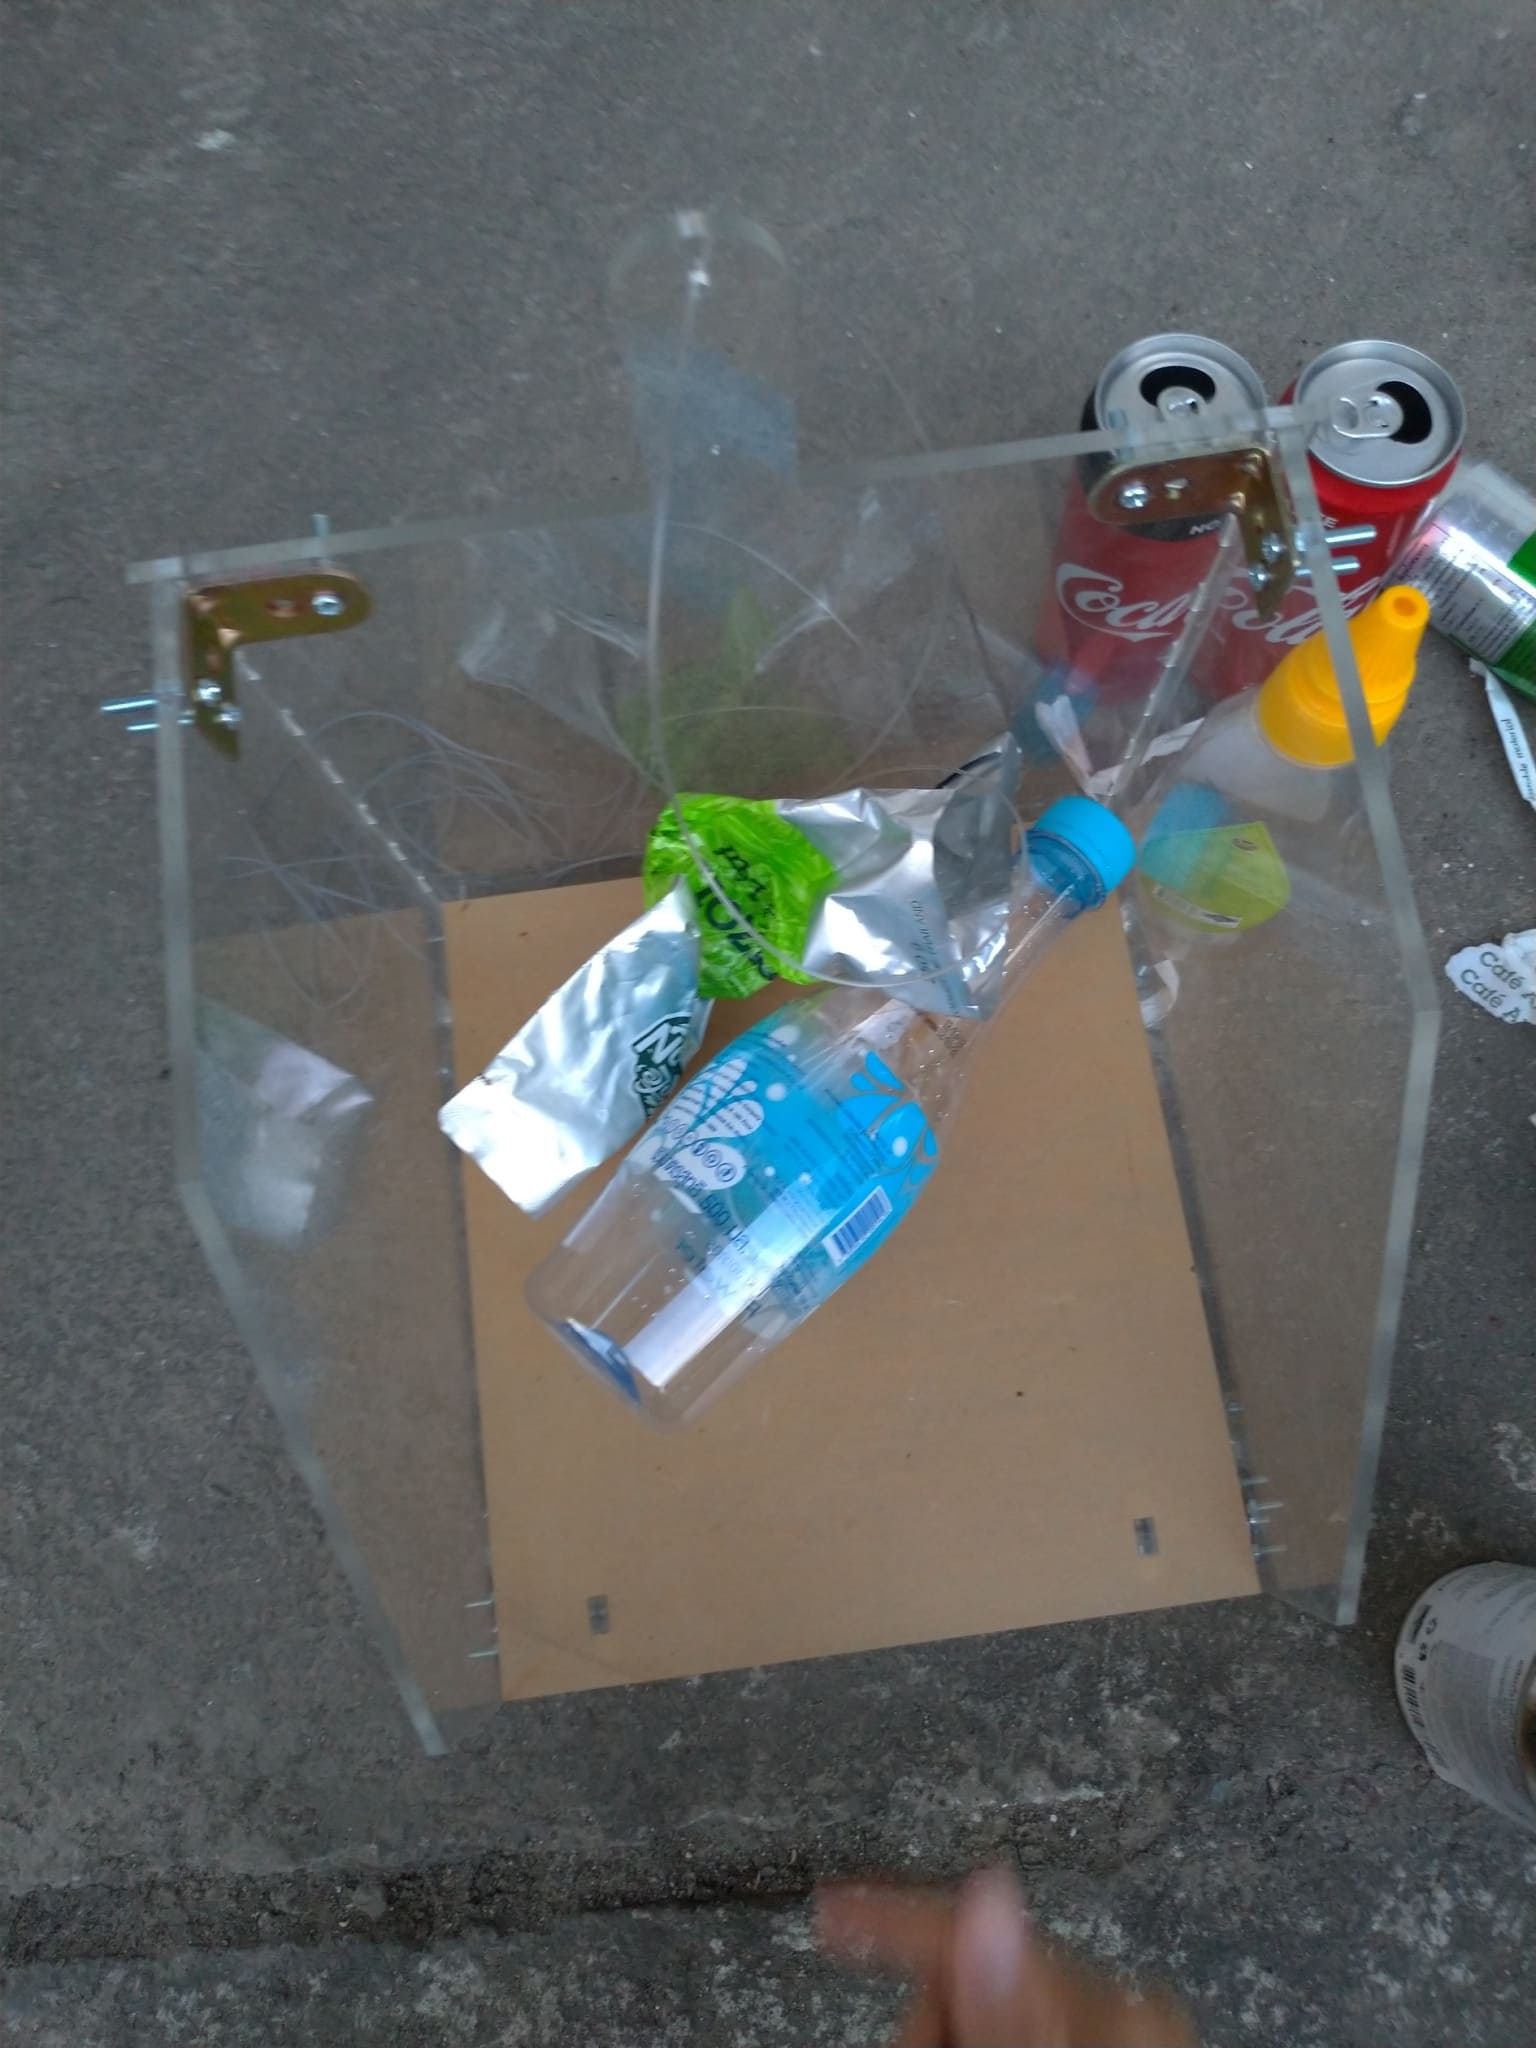AlCan: (1213, 339, 1460, 719), (1033, 332, 1263, 708), (1404, 461, 1536, 701)
Others: (437, 755, 1010, 1177)
PlasticBottle: (537, 811, 1137, 1411), (1131, 595, 1417, 968)
